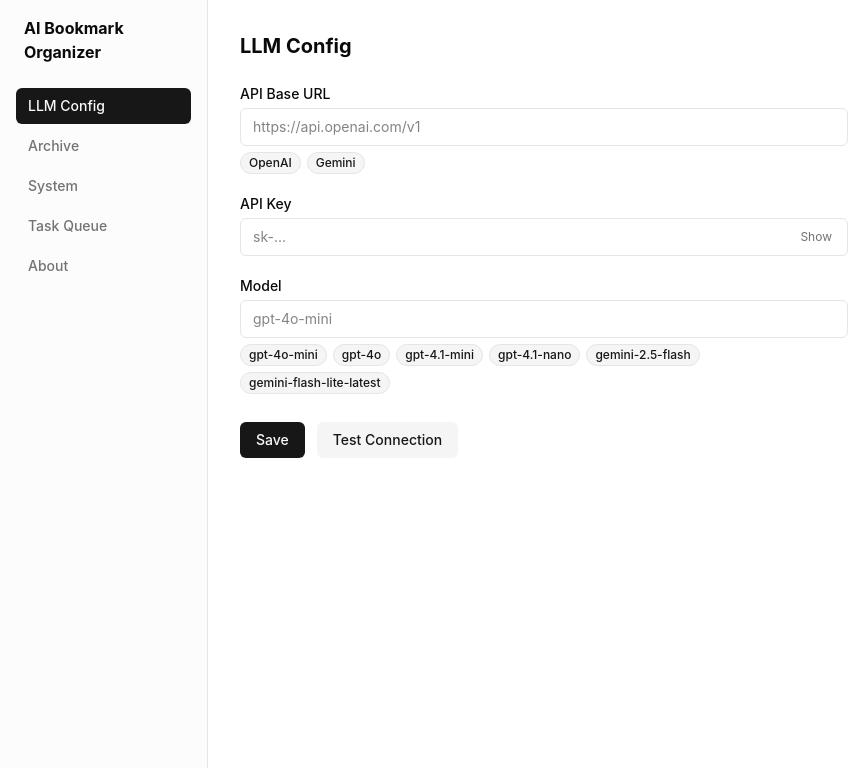
Test: Options Page › renders re-run archive button
Step 1. Click the button "Archive" → (104, 146), box [16, 128, 191, 164]
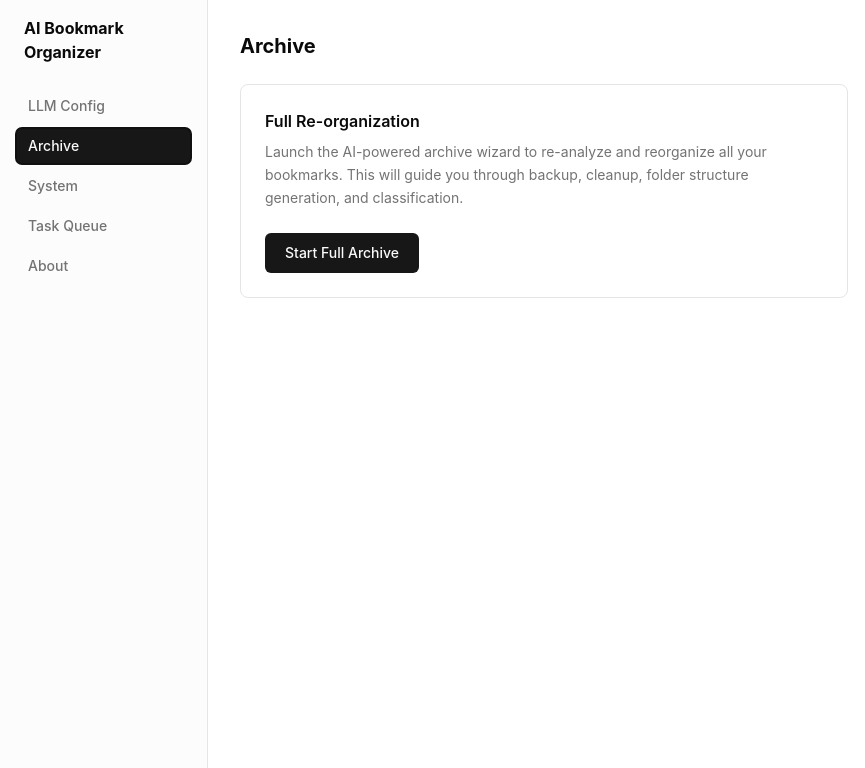
expect the button "Start Full Archive" is shown: met, box [265, 233, 419, 273]
